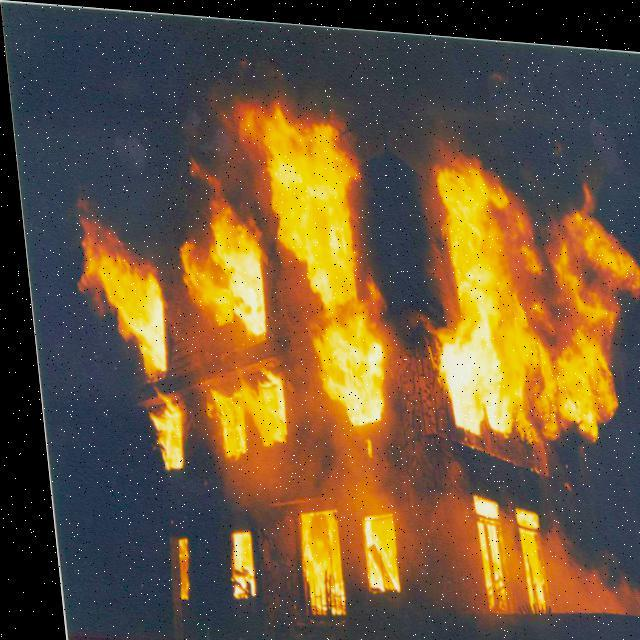Fire: (50, 48, 639, 630)
